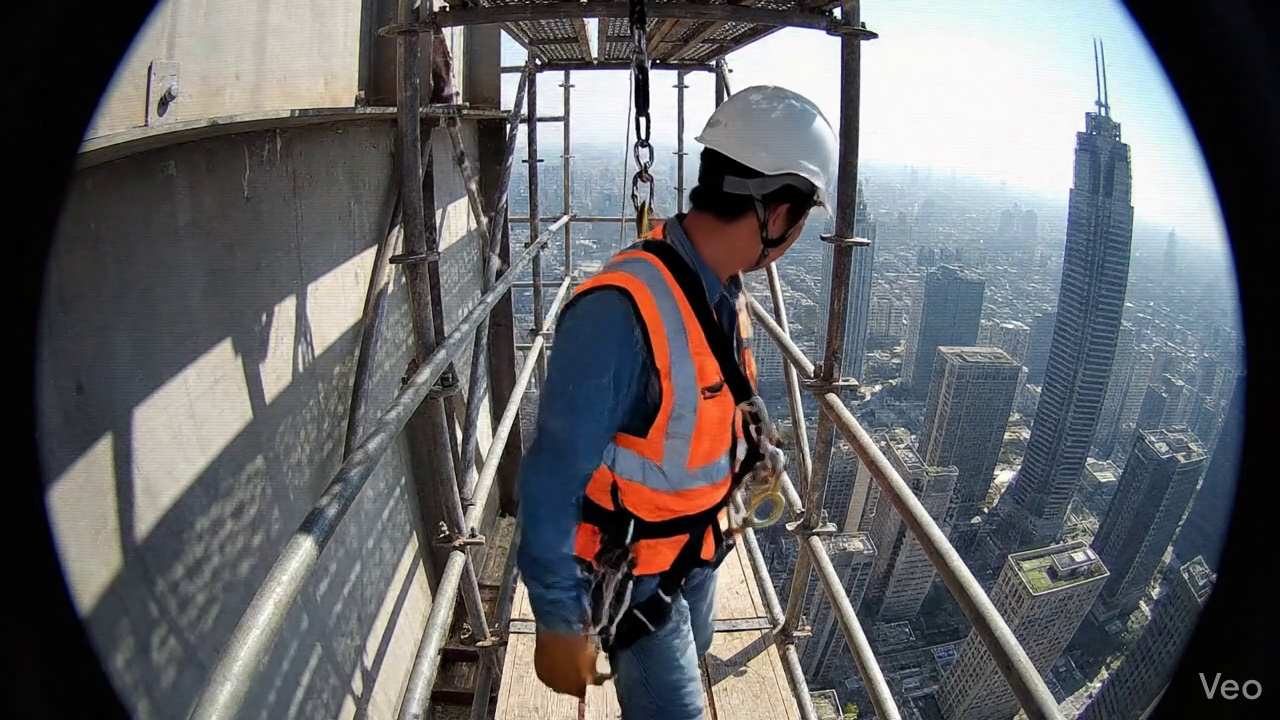person: (518, 85, 835, 719)
